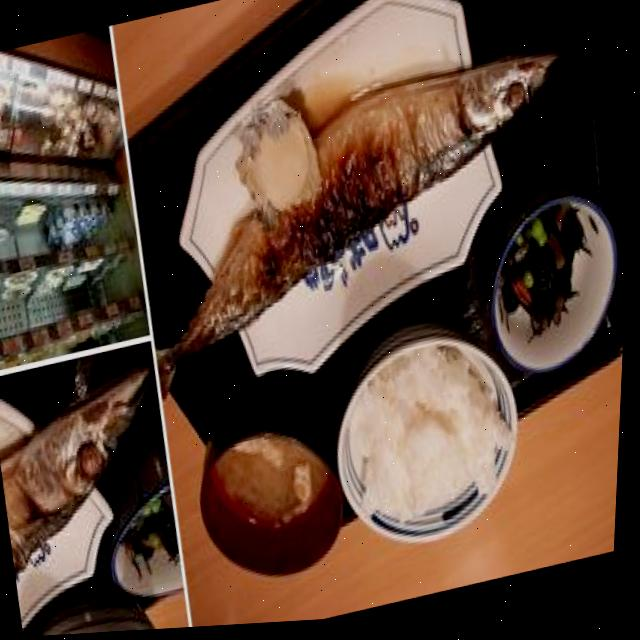熟制海鲜: (120, 23, 614, 417)
